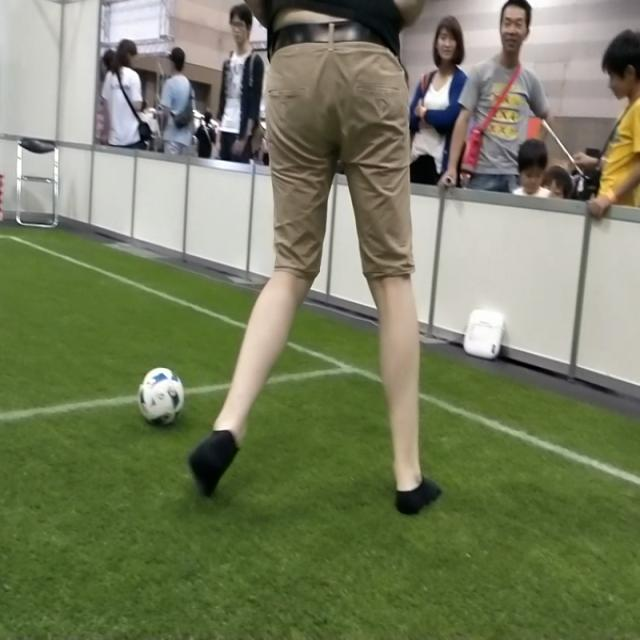ball: (138, 367, 185, 427)
